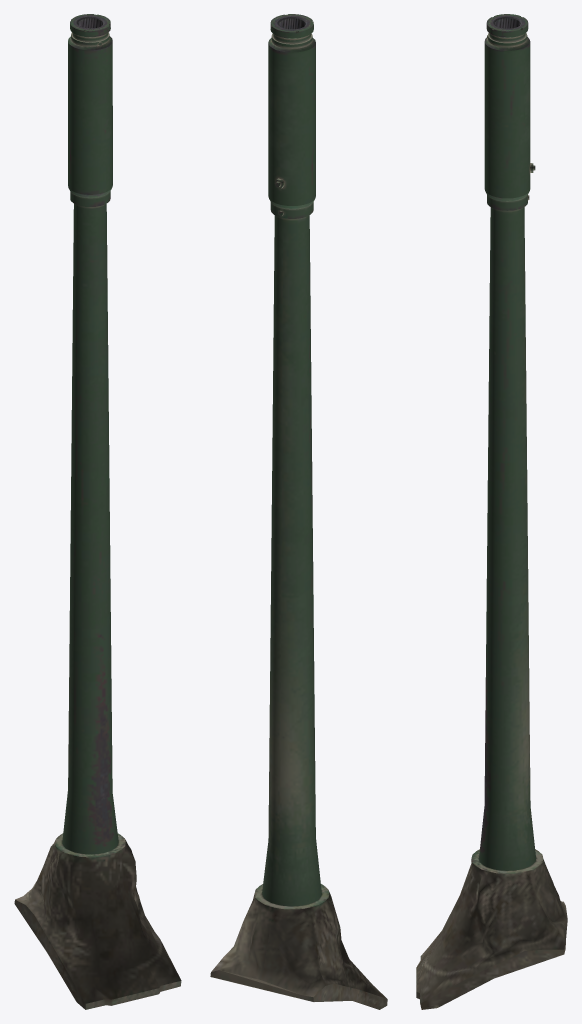
File: Gun_05.glb
The picture shows the model from 3 angles, left to right: view 1: azimuth 30°, elevation 25°; view 2: azimuth 150°, elevation 25°; view 3: azimuth 270°, elevation 25°; orthographic projection. The views are drawn at different scales.
Visible parts, largest first — view 1: set_0_group_0; view 2: set_0_group_0; view 3: set_0_group_0.
Part boxes in pixels (x1=…): set_0_group_0: x1=14, y1=14, x2=181, y2=1009; set_0_group_0: x1=210, y1=14, x2=387, y2=1009; set_0_group_0: x1=416, y1=14, x2=567, y2=1009.
Size of the model in its own units: 0.4478 by 4.07 by 0.5797.
1 material, 1 textured.
